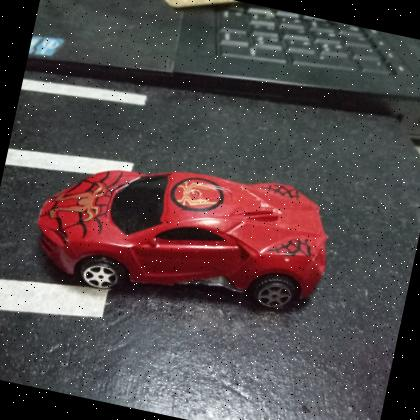Car: (36, 170, 327, 314)
